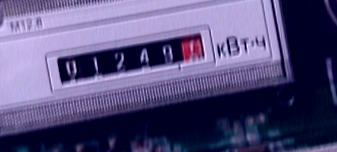0: (64, 56, 80, 78)
1: (89, 54, 102, 74)
2: (113, 50, 128, 72)
4: (138, 46, 151, 66)
7: (185, 35, 199, 55)
9: (160, 43, 176, 65)
screen: (37, 26, 216, 93)
